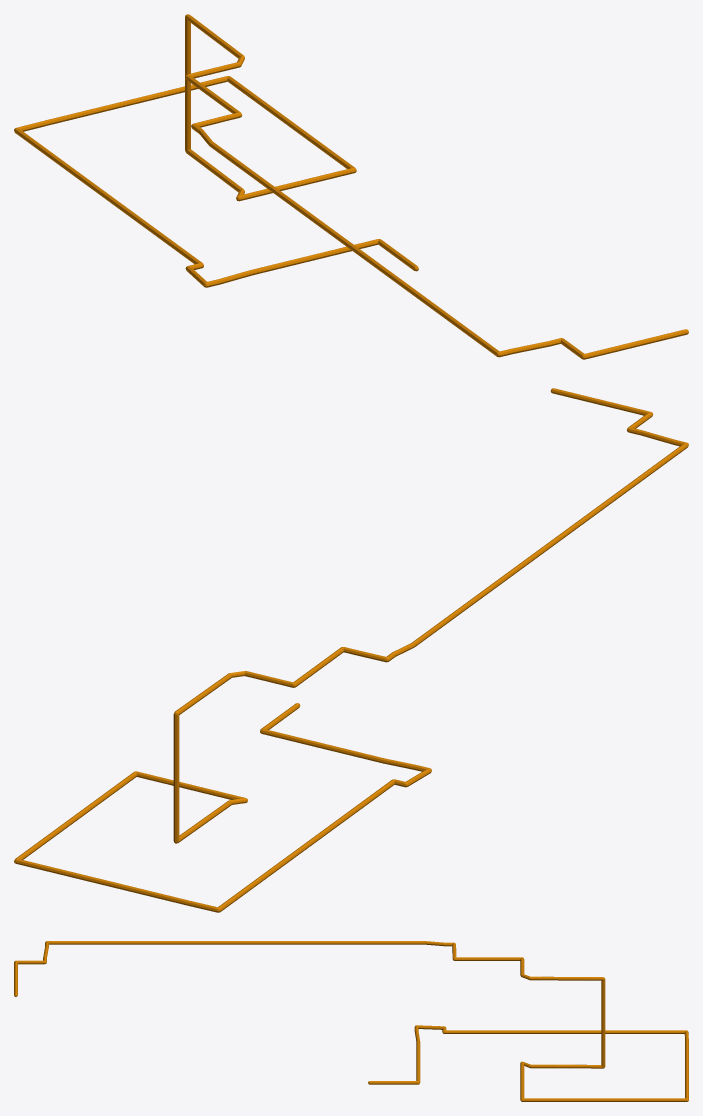
The picture shows the model from 3 angles, top to bottom: view 1: azimuth 30°, elevation 25°; view 2: azimuth 150°, elevation 25°; view 3: azimuth 270°, elevation 25°; orthographic projection. The views are drawn at different scales.
Size of the model in its own units: 912 by 520 by 3483.
